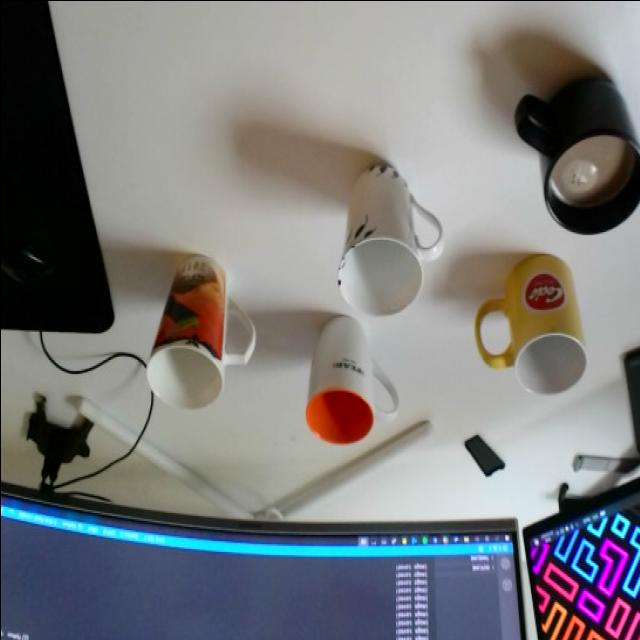Cocio Cup: (473, 252, 588, 396)
Cup: (511, 74, 640, 235)
Halloween cup: (144, 250, 252, 414)
Hand painted cup: (336, 160, 444, 316)
White Cup: (306, 314, 400, 446)
